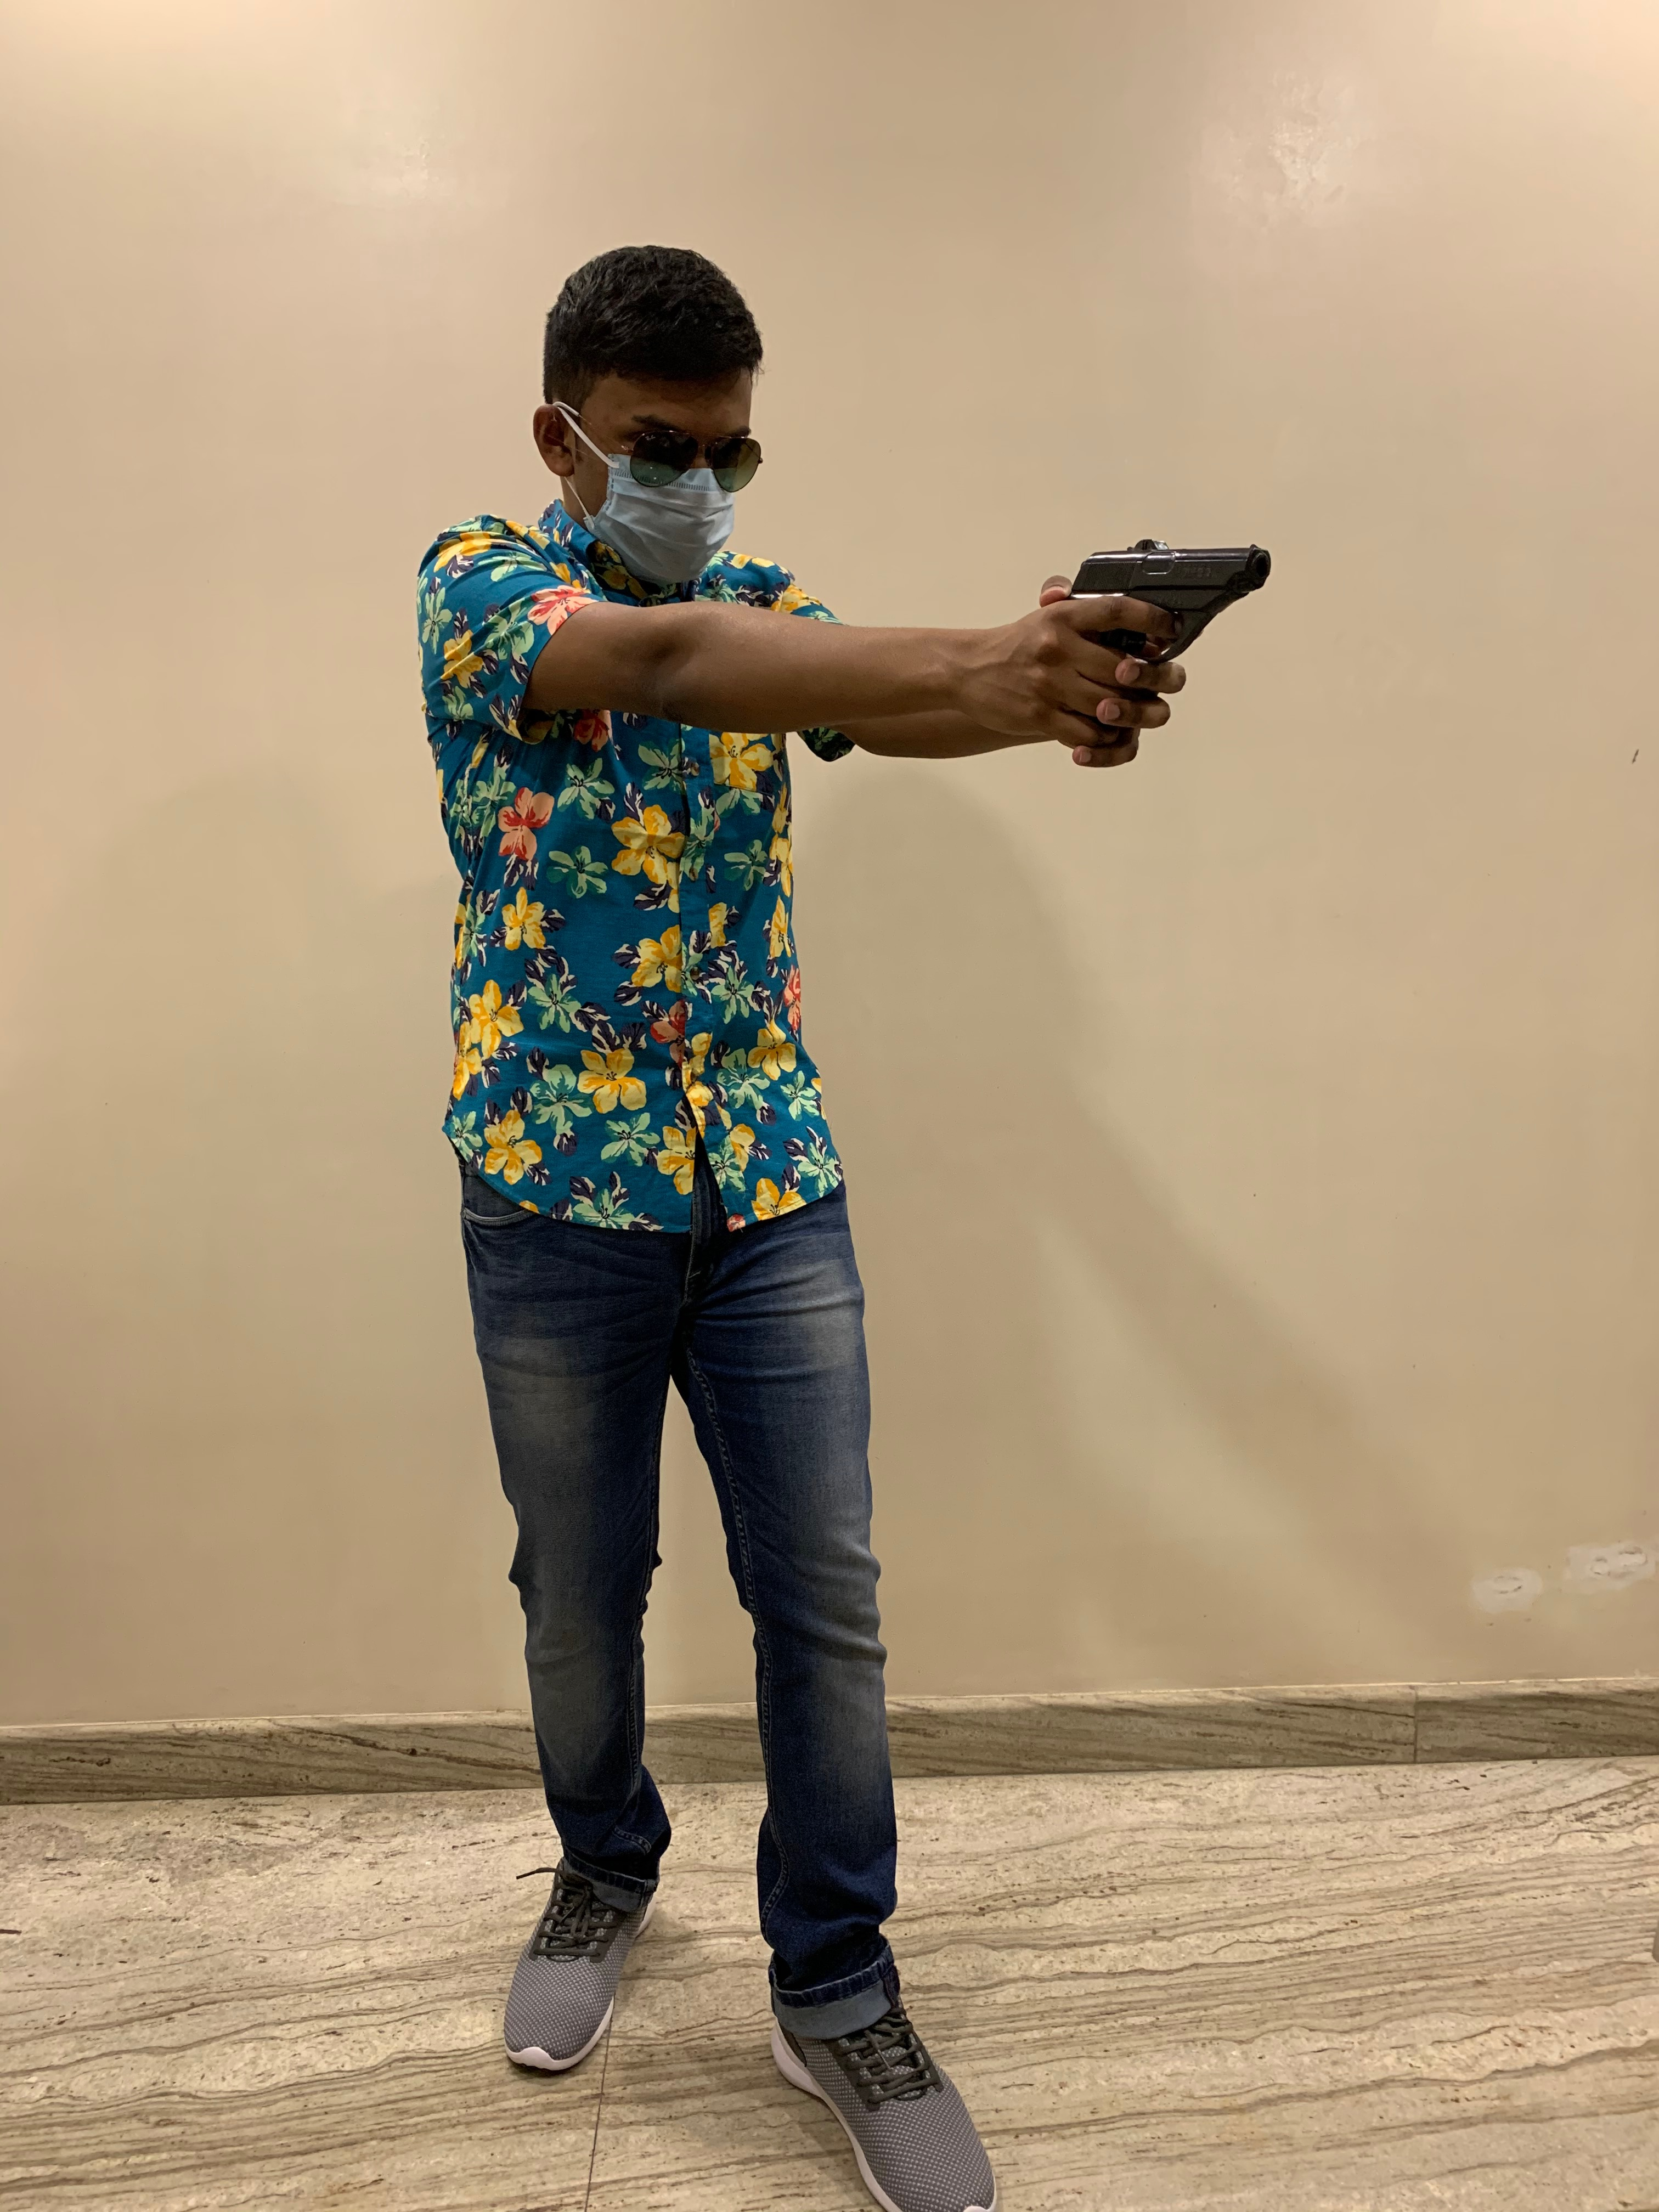gun: (1068, 540, 1276, 658)
